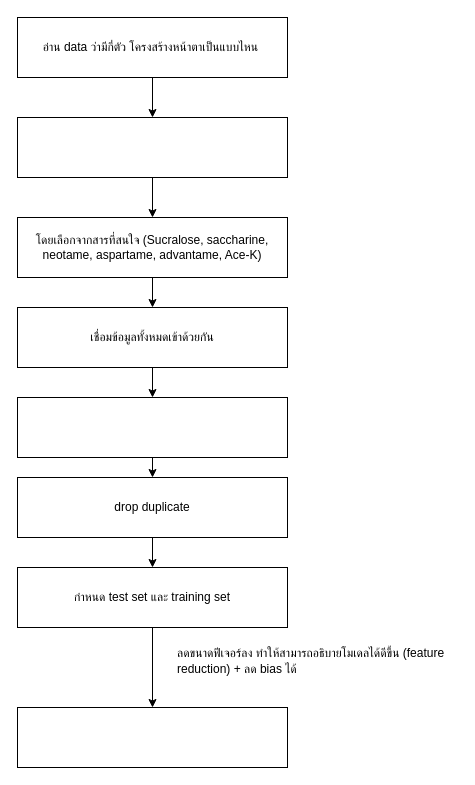
Image size: 475x785. Some labels were removed from this diagram. The shapes that lost their labels are listed below. From the top down, each one's centre as x and y in pixels, then its label:
[152,147]: เลือกสารที่มีโครงสร้างใกล้เคียงกัน (50%)
[152,427]: drop NaN
